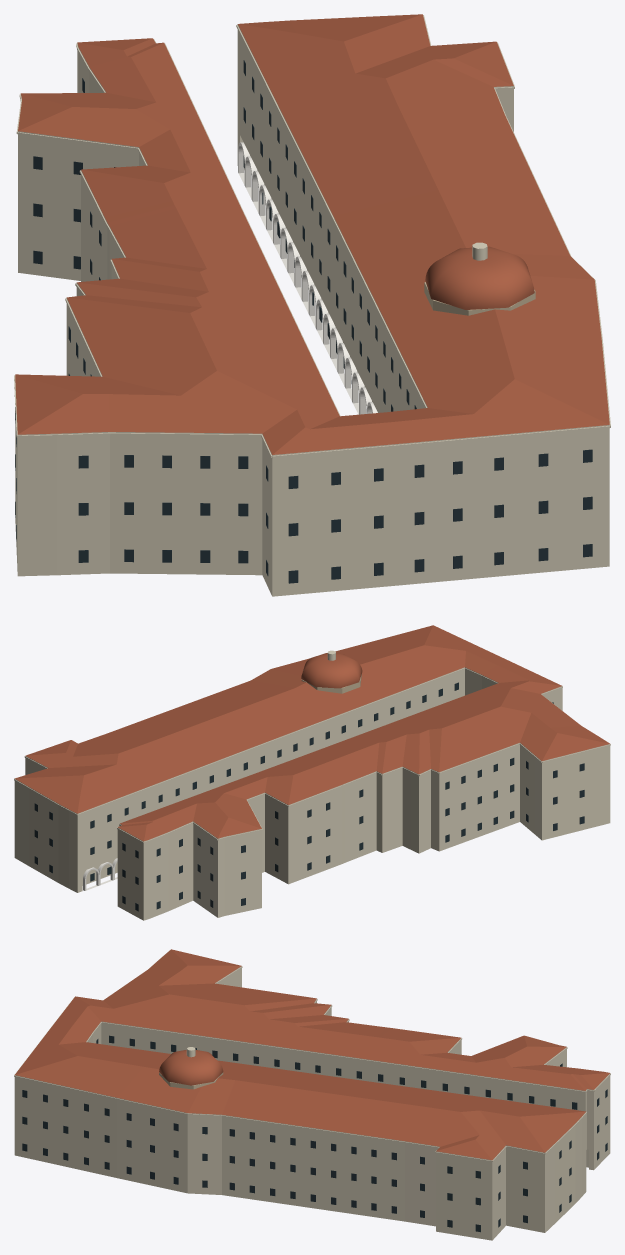
File: uffizi.glb
3 renders of one model, top to bottom at view 1: azimuth 30°, elevation 25°; view 2: azimuth 150°, elevation 25°; view 3: azimuth 270°, elevation 25°, orthographic. The views are drawn at different scales.
Parts seen in each view (by area): view 1: primary-roof, primary-envelope, window-rhythm, cornice, open-loggia, tribuna-dome; view 2: primary-envelope, primary-roof, window-rhythm, cornice, tribuna-dome; view 3: primary-envelope, primary-roof, window-rhythm, cornice, tribuna-dome.
Boxes of the visible parts, x1,y1,x2,y2 form: primary-roof: [15, 14, 609, 454]; primary-envelope: [15, 24, 609, 596]; window-rhythm: [15, 60, 592, 583]; cornice: [14, 15, 610, 458]; open-loggia: [238, 142, 377, 414]; tribuna-dome: [425, 246, 534, 309]; primary-envelope: [14, 667, 610, 920]; primary-roof: [15, 625, 609, 841]; window-rhythm: [34, 682, 584, 911]; cornice: [14, 668, 610, 843]; tribuna-dome: [301, 653, 362, 688]; primary-envelope: [14, 966, 610, 1240]; primary-roof: [15, 949, 609, 1160]; window-rhythm: [22, 1035, 607, 1232]; cornice: [14, 951, 610, 1161]; tribuna-dome: [159, 1050, 223, 1085].
Bounding box in the file's own units: 13.41 × 3.37 × 16.
